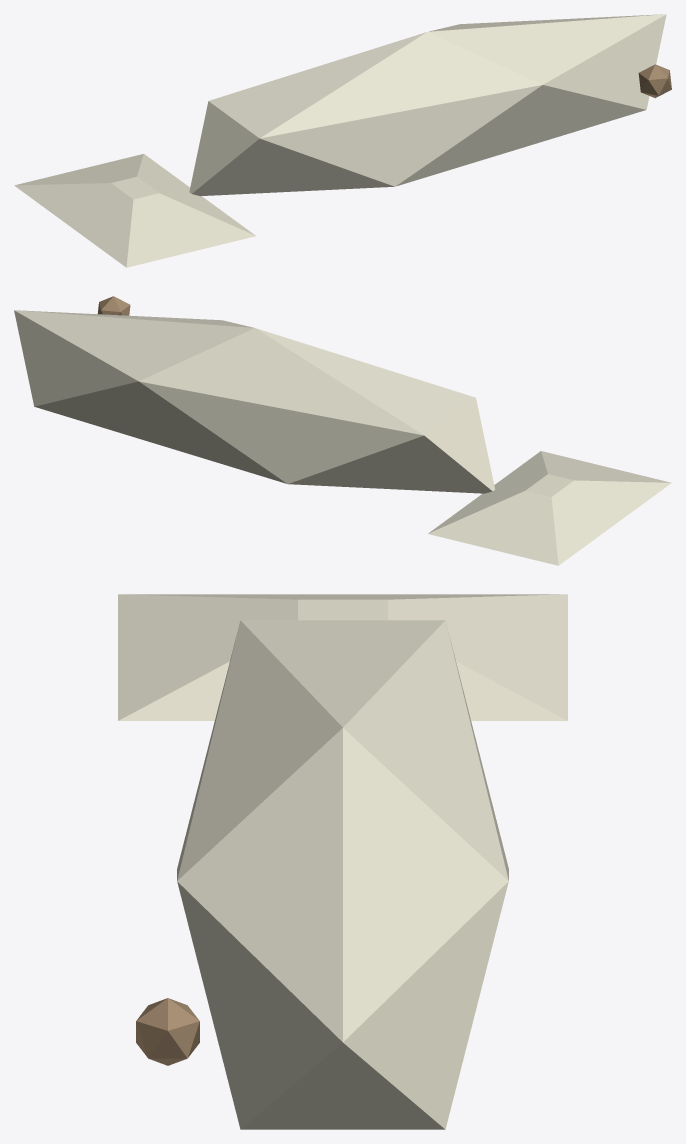
File: item_042_fish_s.glb
3 views of the same model, one above another, from view 1: azimuth 30°, elevation 25°; view 2: azimuth 150°, elevation 25°; view 3: azimuth 270°, elevation 25° (orthographic). The views are drawn at different scales.
Visible parts, largest first — view 1: item_042_fish_s; view 2: item_042_fish_s; view 3: item_042_fish_s.
Boxes of the visible parts, x1,y1,x2,y2 form: item_042_fish_s: (14, 14, 671, 267); item_042_fish_s: (14, 296, 671, 565); item_042_fish_s: (118, 594, 567, 1129).
Bounding box in the file's own units: 0.5509 × 0.125 × 0.18.
